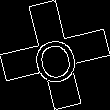O_N: (28, 25, 82, 85)
